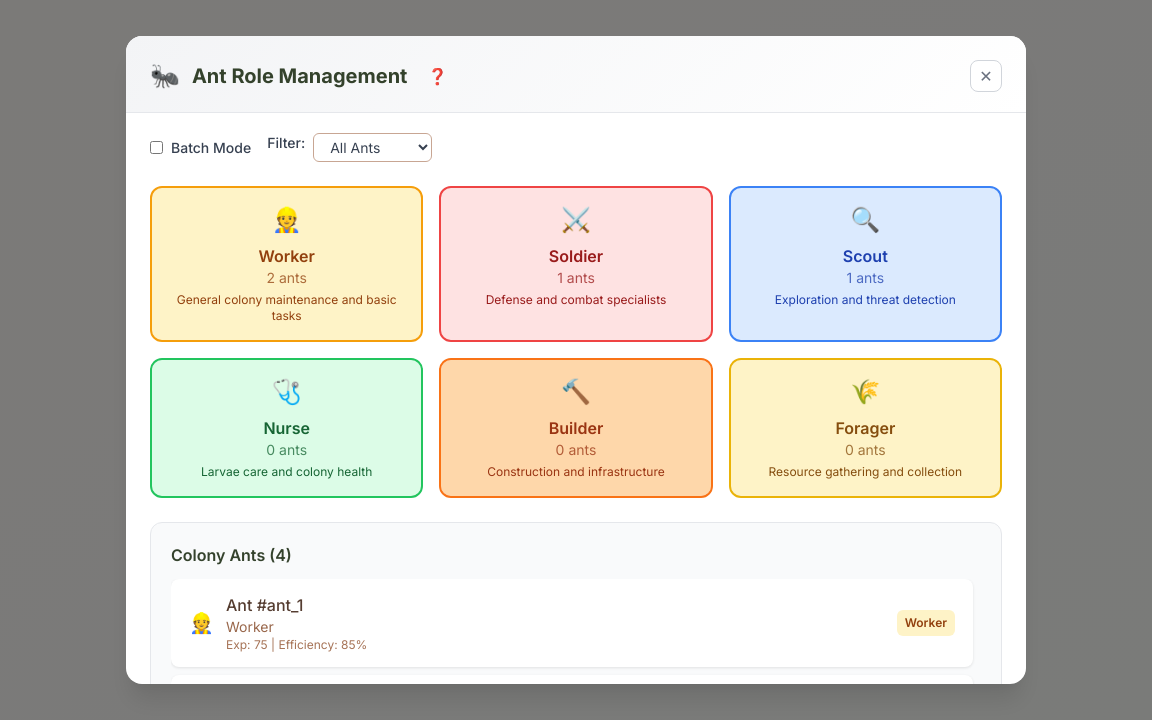
it: AntRolePanel › Role Assignment › shows role assignment controls when ant is selected
Click the text "Ant #ant_1".
click(265, 605)  # box [226,595,303,615]
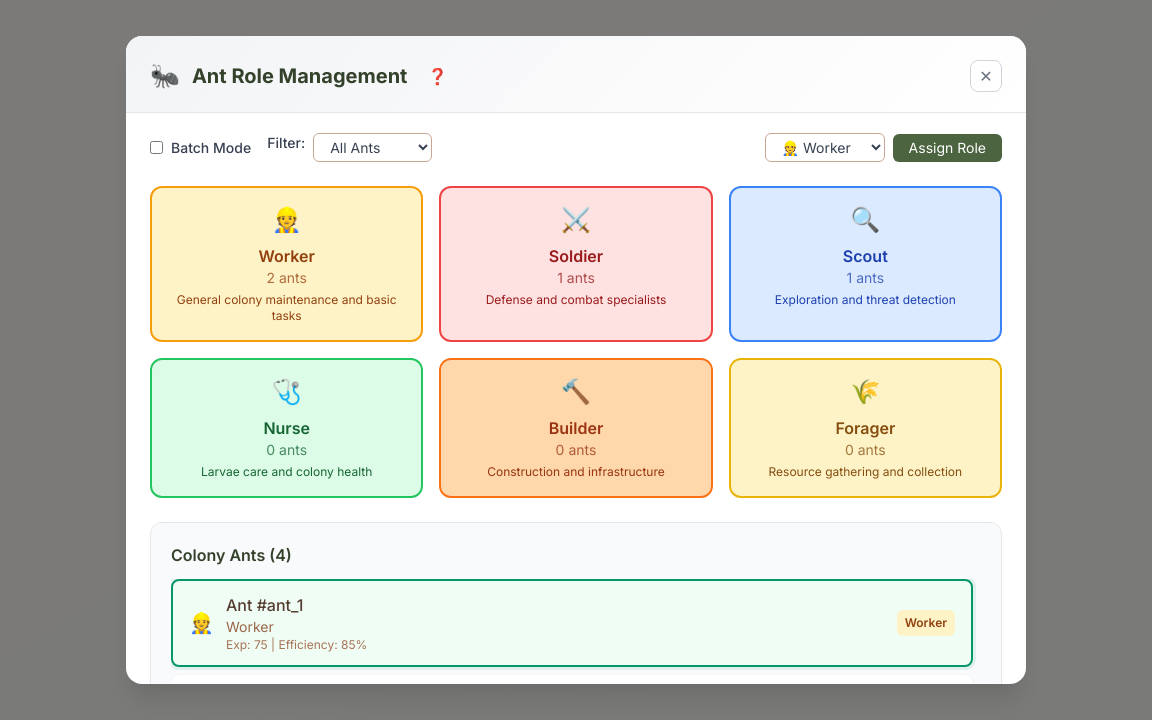
Check: the button "Assign Role" is shown, box [893,134,1002,162]
